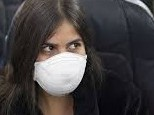with_mask: (18, 5, 99, 99)
